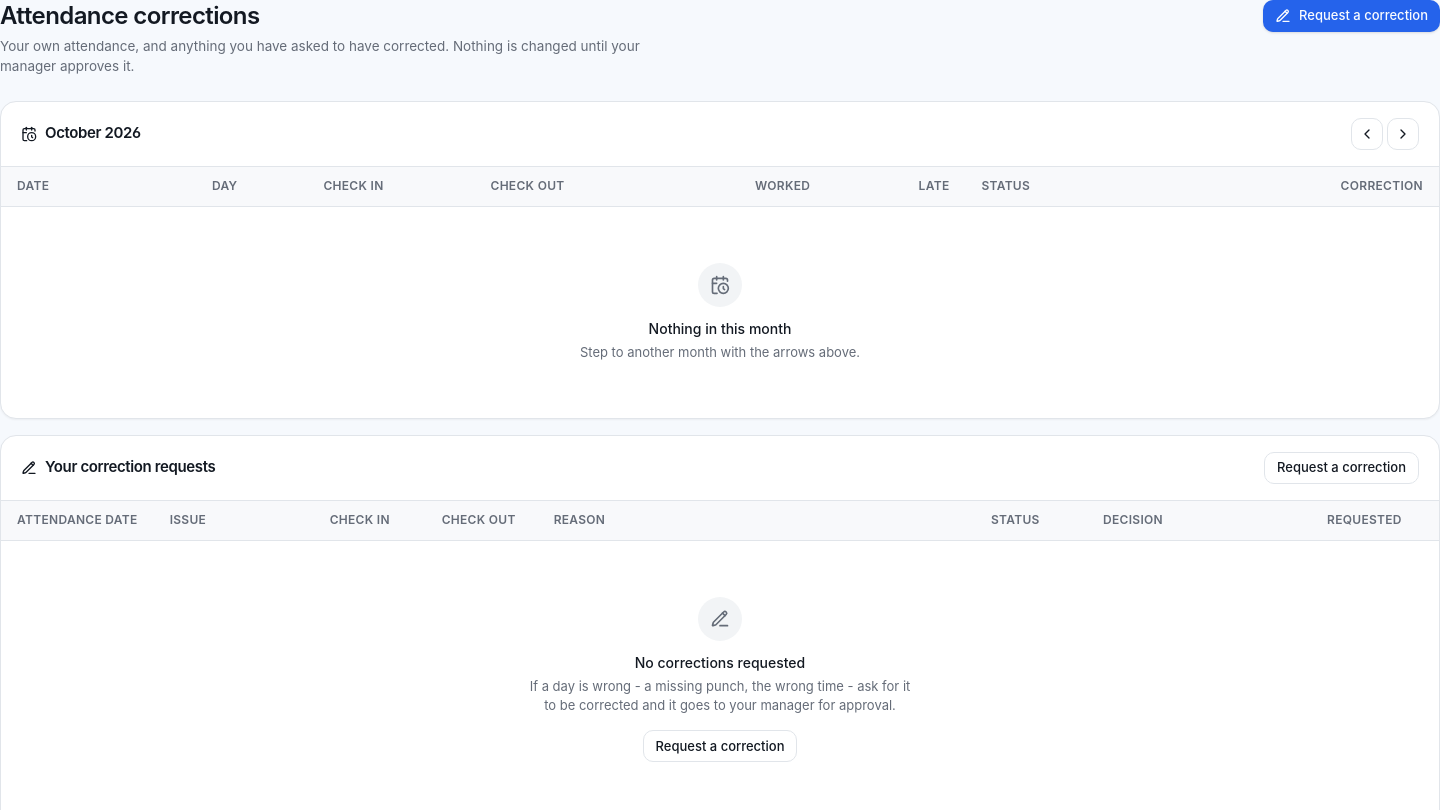
Test: the screen › offers only the time the chosen issue is about
Click the button "Request a correction" in the row of "Attendance corrections" at [1352, 16], box [1263,0,1439,32]
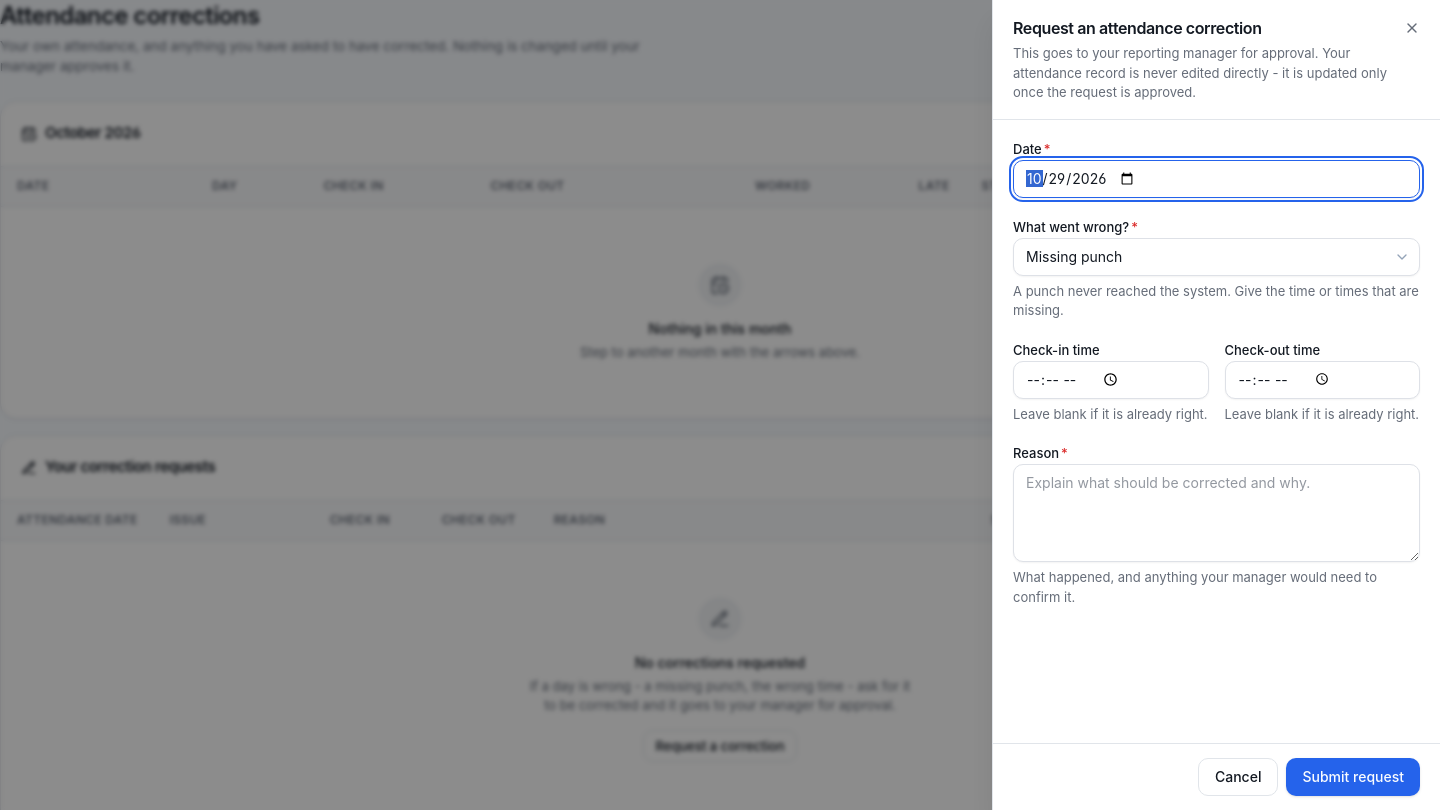
Expected: the time field labelled "Check-in time" is shown, [1013,360,1208,398]
Expected: the time field labelled "Check-out time" is shown, [1224,360,1420,398]
Select "Incorrect check-in" in the dropdown labelled "What went wrong?*" at [1216, 256], box [1013,238,1420,276]
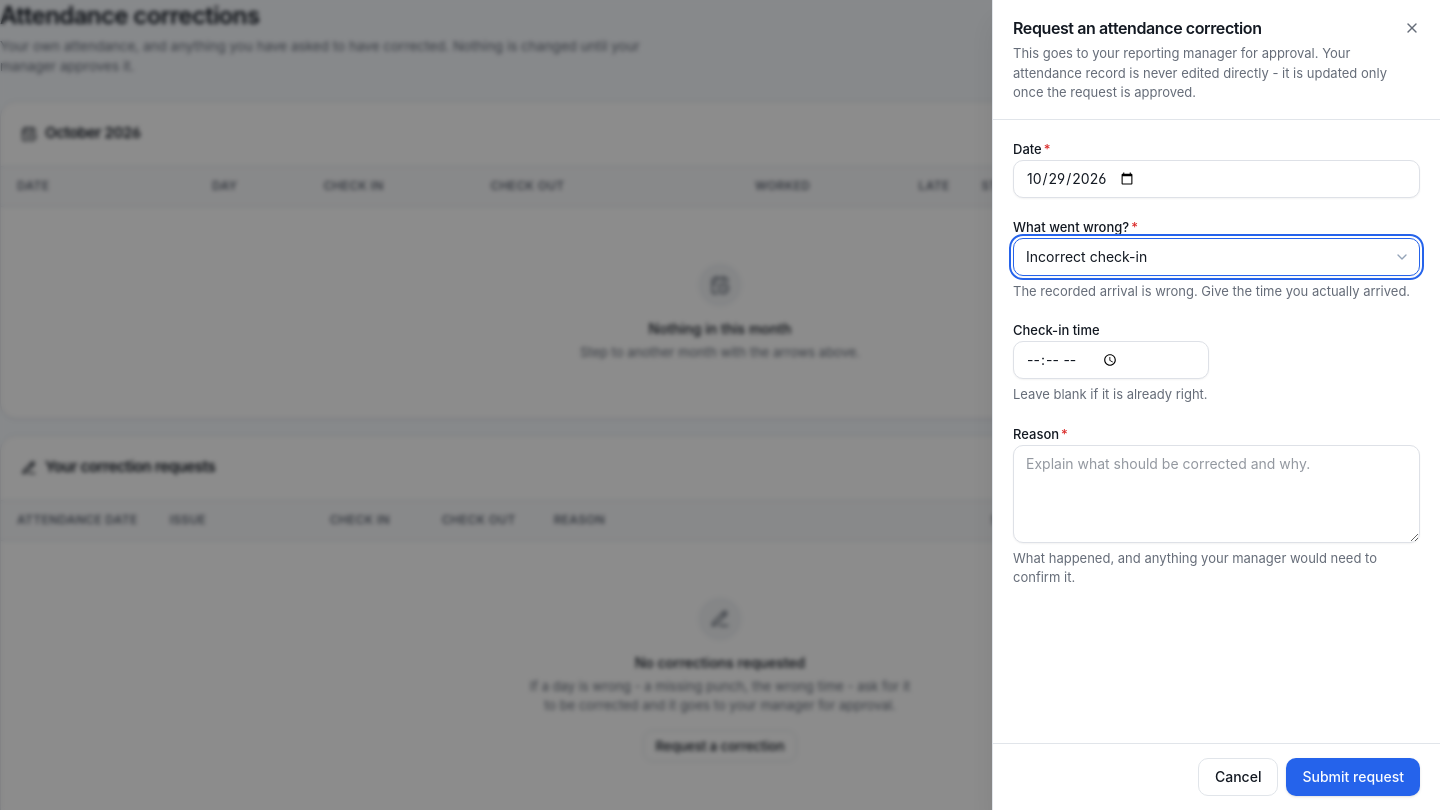
Expected: the time field labelled "Check-in time" is shown, [1013,341,1208,379]
Expected: the label labelled "Check-out time" is gone
